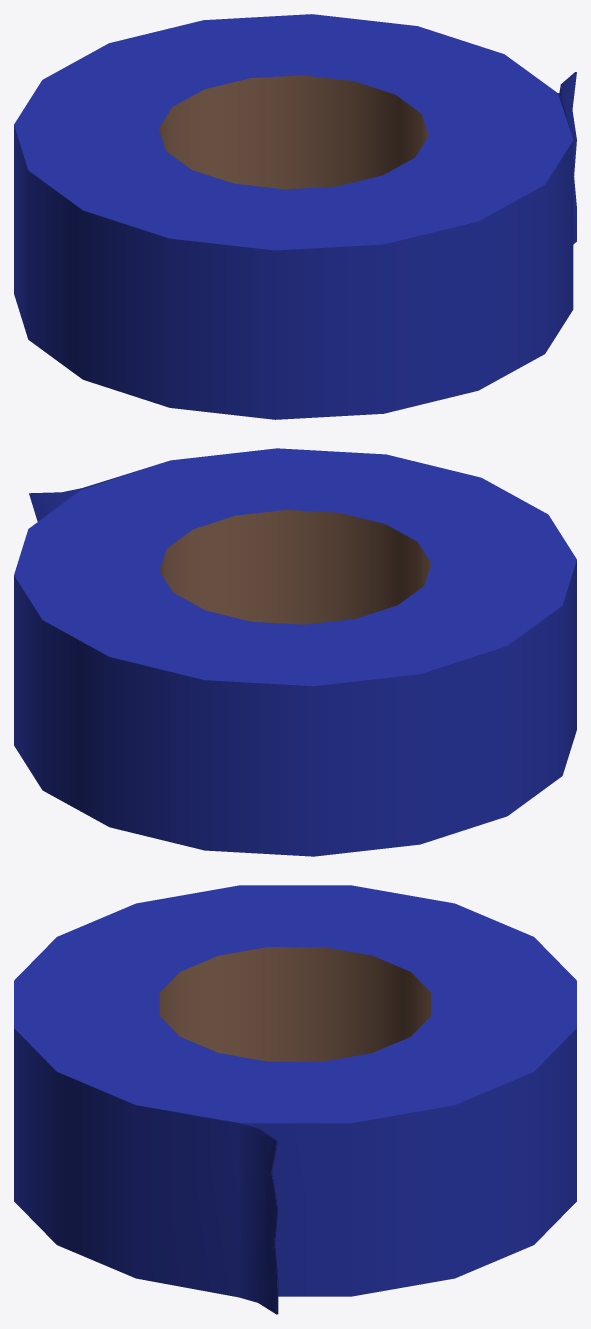
File: tape.fbx
3 renders of one model, top to bottom at view 1: azimuth 30°, elevation 25°; view 2: azimuth 150°, elevation 25°; view 3: azimuth 270°, elevation 25°, orthographic. The views are drawn at different scales.
Visible parts, largest first — view 1: DuctTape; view 2: DuctTape; view 3: DuctTape.
Part boxes in pixels (x1,y1,x2,y2): DuctTape: (14,14,576,419); DuctTape: (14,448,576,856); DuctTape: (14,885,576,1314).
Size of the model in its own units: 15.12 by 4.78 by 14.06.
